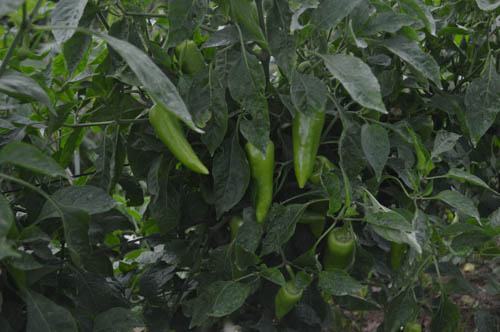ChiliPepper: (149, 101, 211, 180), (286, 97, 318, 187), (242, 133, 272, 224), (318, 221, 359, 269), (267, 272, 308, 316), (174, 35, 210, 83), (389, 232, 408, 273)
